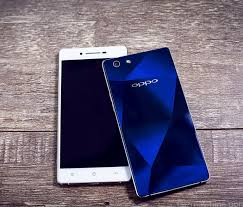oppo: (101, 47, 211, 202)
